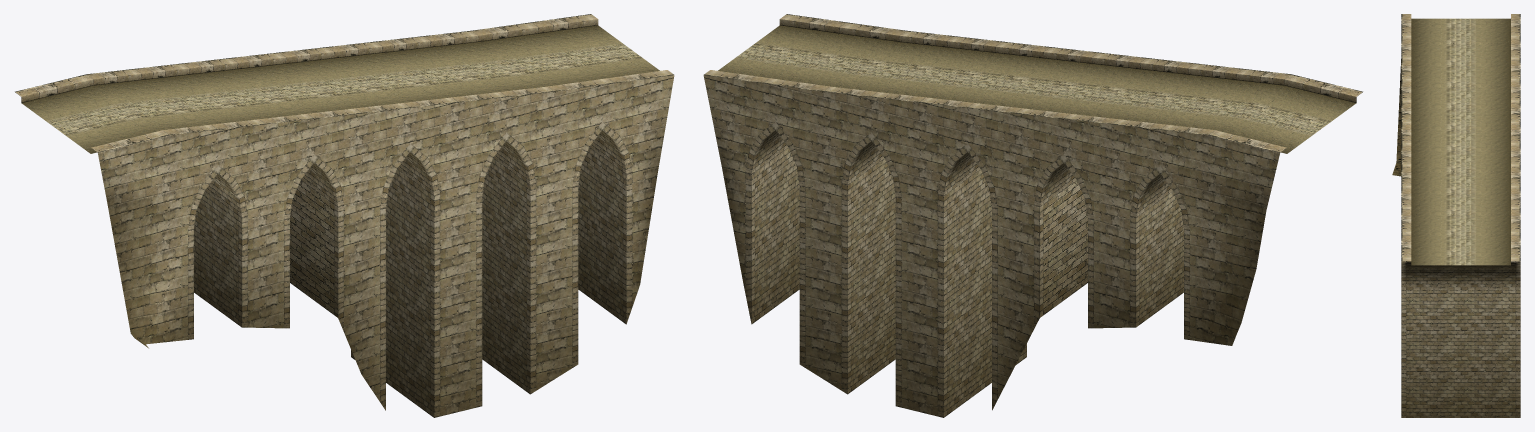
The model's file is Mission12_ViaDuct.glb.
The picture shows the model from 3 angles, left to right: view 1: azimuth 30°, elevation 25°; view 2: azimuth 150°, elevation 25°; view 3: azimuth 270°, elevation 25°; orthographic projection. The views are drawn at different scales.
Parts seen in each view (by area): view 1: MISSION12_VIADUCT; view 2: MISSION12_VIADUCT; view 3: MISSION12_VIADUCT.
Boxes of the visible parts, box(x1,y1,x2,y2) form: MISSION12_VIADUCT: box(15, 14, 674, 417); MISSION12_VIADUCT: box(703, 14, 1362, 417); MISSION12_VIADUCT: box(1392, 14, 1520, 417).
Size of the model in its own units: 48 by 27.62 by 12.93.
6 materials, 6 textured.
